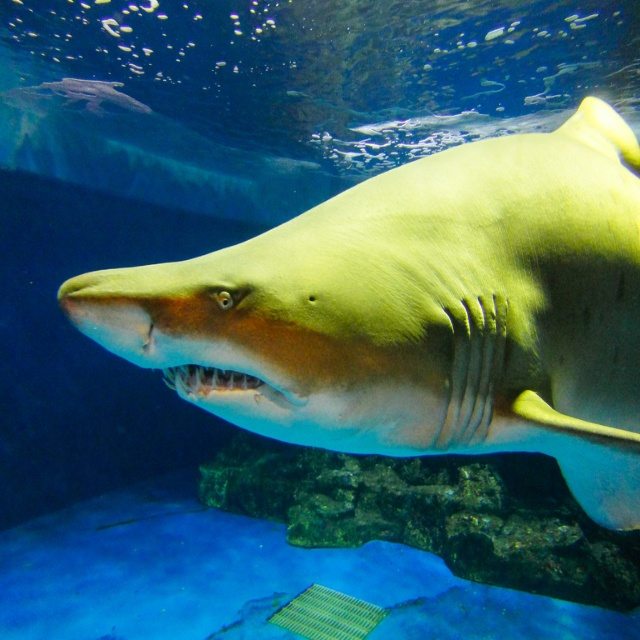Shark: (53, 96, 639, 533)
